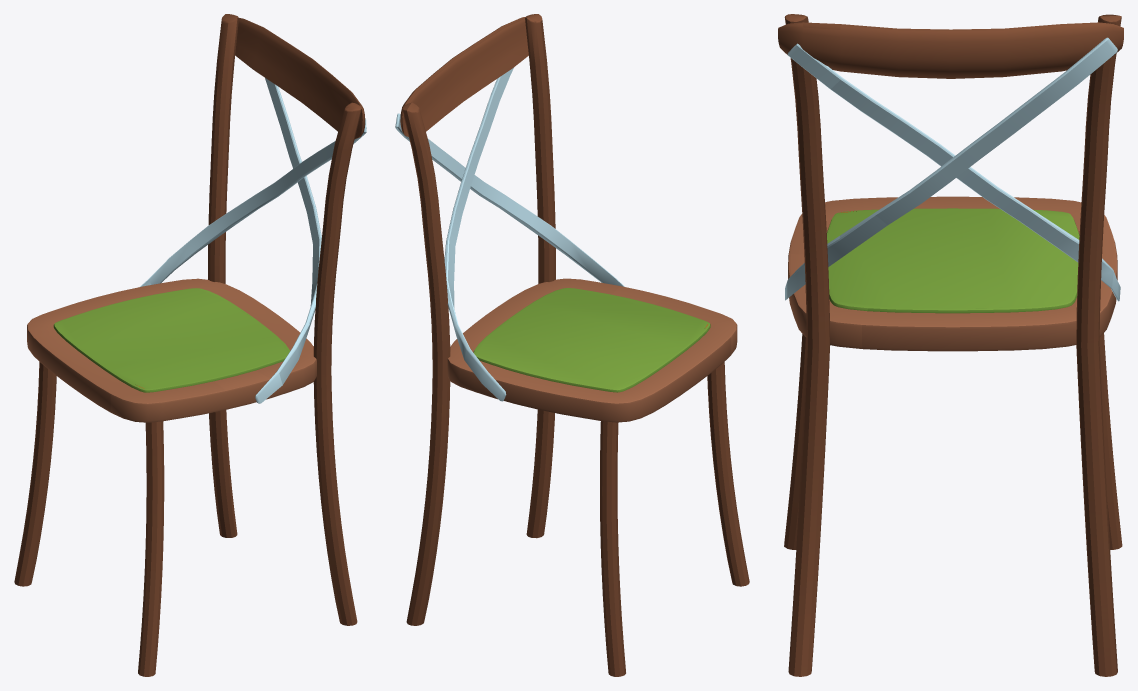
Rendered from KitchenChair.fbx.
The picture shows the model from 3 angles, left to right: view 1: azimuth 30°, elevation 25°; view 2: azimuth 150°, elevation 25°; view 3: azimuth 270°, elevation 25°; orthographic projection. The views are drawn at different scales.
Visible parts, largest first — view 1: kitchenchair; view 2: kitchenchair; view 3: kitchenchair.
Part boxes in pixels (<box>): kitchenchair: <box>14,14,366,676</box>; kitchenchair: <box>395,14,749,676</box>; kitchenchair: <box>778,14,1123,676</box>.
Bounding box in the file's own units: 101 × 200 × 95.09.
Materials: 1 (1 with a texture image).
